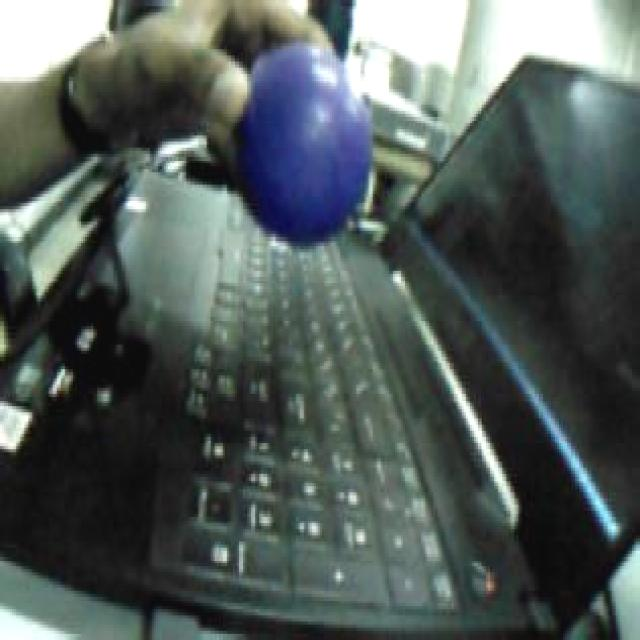BallPurple: (235, 45, 372, 248)
